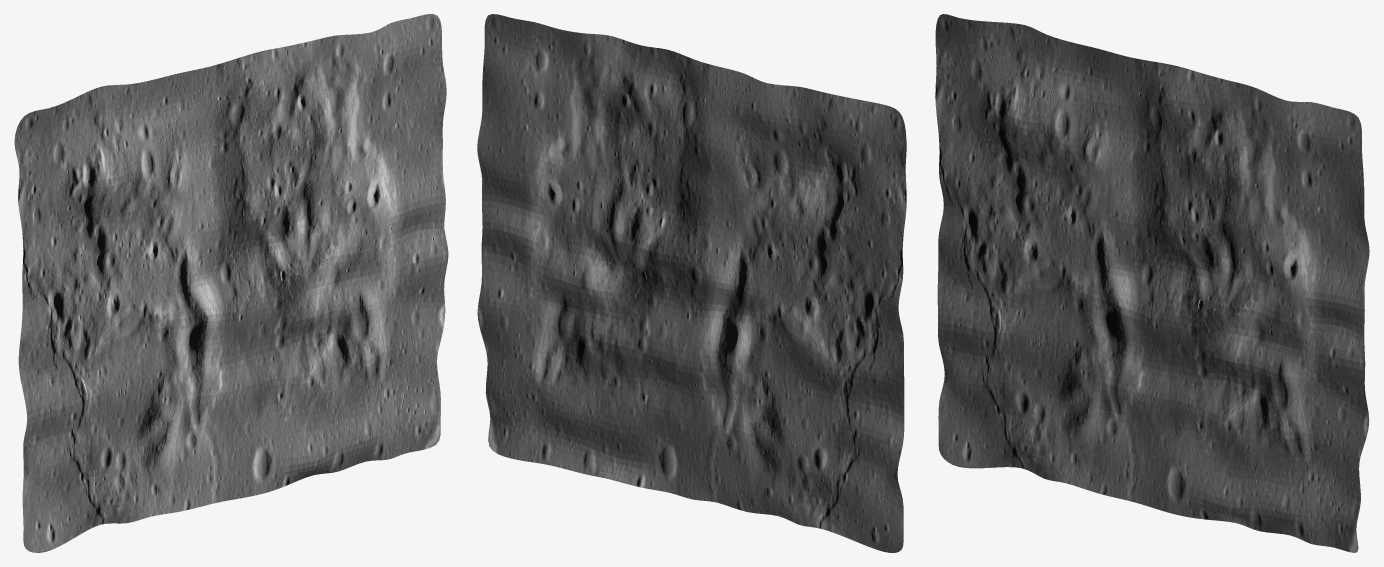
3 views of the same model, side by side, from view 1: azimuth 30°, elevation 25°; view 2: azimuth 150°, elevation 25°; view 3: azimuth 330°, elevation 25° (orthographic).
Parts seen in each view (by area): view 1: node; view 2: node; view 3: node.
Part boxes in pixels (bbox=[...]): node: bbox=[14, 14, 448, 552]; node: bbox=[477, 14, 906, 552]; node: bbox=[935, 14, 1369, 552].
Size of the model in its own units: 4.6 by 4.59 by 0.1589.
Materials: 1 (1 with a texture image).
